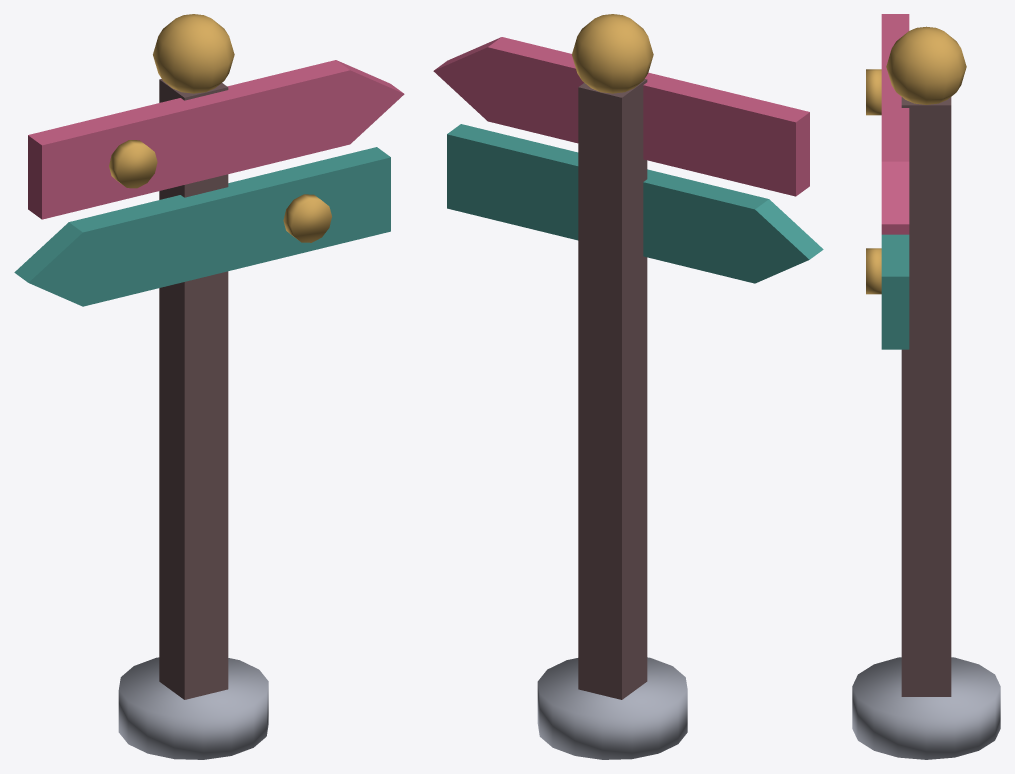
The model's file is signpost.glb.
3 renders of one model, left to right at view 1: azimuth 30°, elevation 25°; view 2: azimuth 150°, elevation 25°; view 3: azimuth 270°, elevation 25°, orthographic.
Parts seen in each view (by area): view 1: Signpost_timber_post, Signpost_direction_arrow, Signpost_direction_arrow.001, Signpost_stone_foot, Signpost_brass_finial, Signpost_round_brass_marker, Signpost_round_brass_marker.001; view 2: Signpost_timber_post, Signpost_direction_arrow, Signpost_direction_arrow.001, Signpost_stone_foot, Signpost_brass_finial; view 3: Signpost_timber_post, Signpost_stone_foot, Signpost_direction_arrow.001, Signpost_brass_finial, Signpost_direction_arrow, Signpost_round_brass_marker, Signpost_round_brass_marker.001.
Part boxes in pixels (x1,y1,x2,y2): Signpost_timber_post: (159, 79, 228, 699); Signpost_direction_arrow: (14, 147, 390, 306); Signpost_direction_arrow.001: (28, 60, 404, 219); Signpost_stone_foot: (118, 657, 268, 759); Signpost_brass_finial: (153, 14, 234, 93); Signpost_round_brass_marker: (283, 194, 331, 242); Signpost_round_brass_marker.001: (109, 140, 157, 188); Signpost_timber_post: (578, 79, 647, 699); Signpost_direction_arrow: (447, 124, 823, 283); Signpost_direction_arrow.001: (433, 37, 809, 196); Signpost_stone_foot: (537, 657, 687, 759); Signpost_brass_finial: (572, 14, 653, 93); Signpost_timber_post: (901, 97, 951, 696); Signpost_stone_foot: (852, 657, 1000, 759); Signpost_direction_arrow.001: (881, 14, 909, 234); Signpost_brass_finial: (886, 26, 966, 104); Signpost_direction_arrow: (881, 234, 909, 349); Signpost_round_brass_marker: (866, 248, 881, 294); Signpost_round_brass_marker.001: (866, 69, 881, 115).
Bounding box in the file's own units: 1.38 × 2.49 × 0.48.
